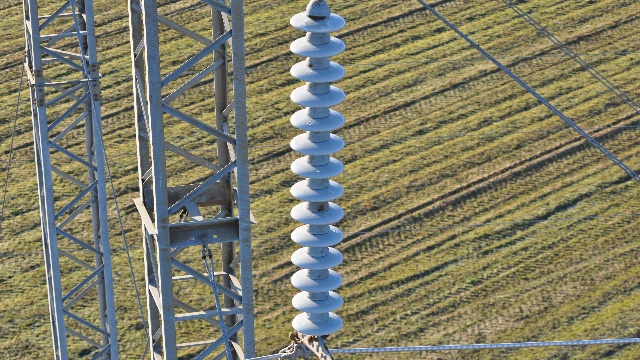insulator_unspecified: (287, 10, 346, 336)
pollution_flashover_local: (305, 17, 331, 30)
